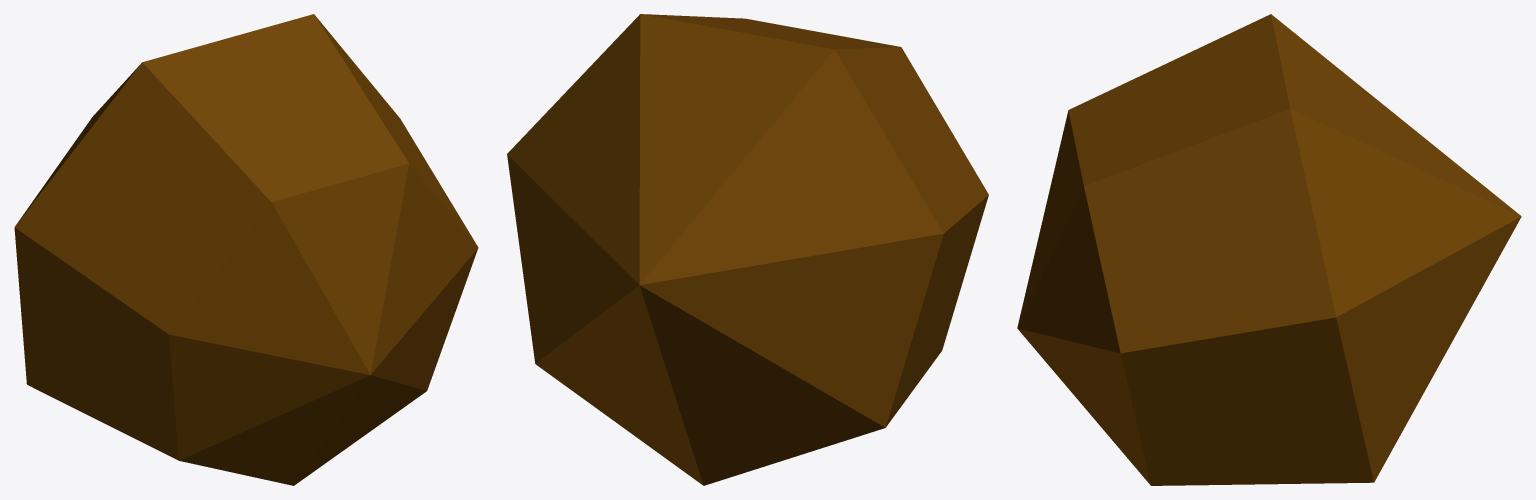
3 views of the same model, side by side, from view 1: azimuth 30°, elevation 25°; view 2: azimuth 150°, elevation 25°; view 3: azimuth 270°, elevation 25° (orthographic). The views are drawn at different scales.
Parts seen in each view (by area): view 1: 右3; view 2: 右3; view 3: 右3.
Part boxes in pixels (x1=…): 右3: x1=14, y1=14, x2=478, y2=485; 右3: x1=507, y1=14, x2=988, y2=485; 右3: x1=1017, y1=14, x2=1521, y2=485.
Size of the model in its own units: 9.37 by 9.01 by 9.66.
